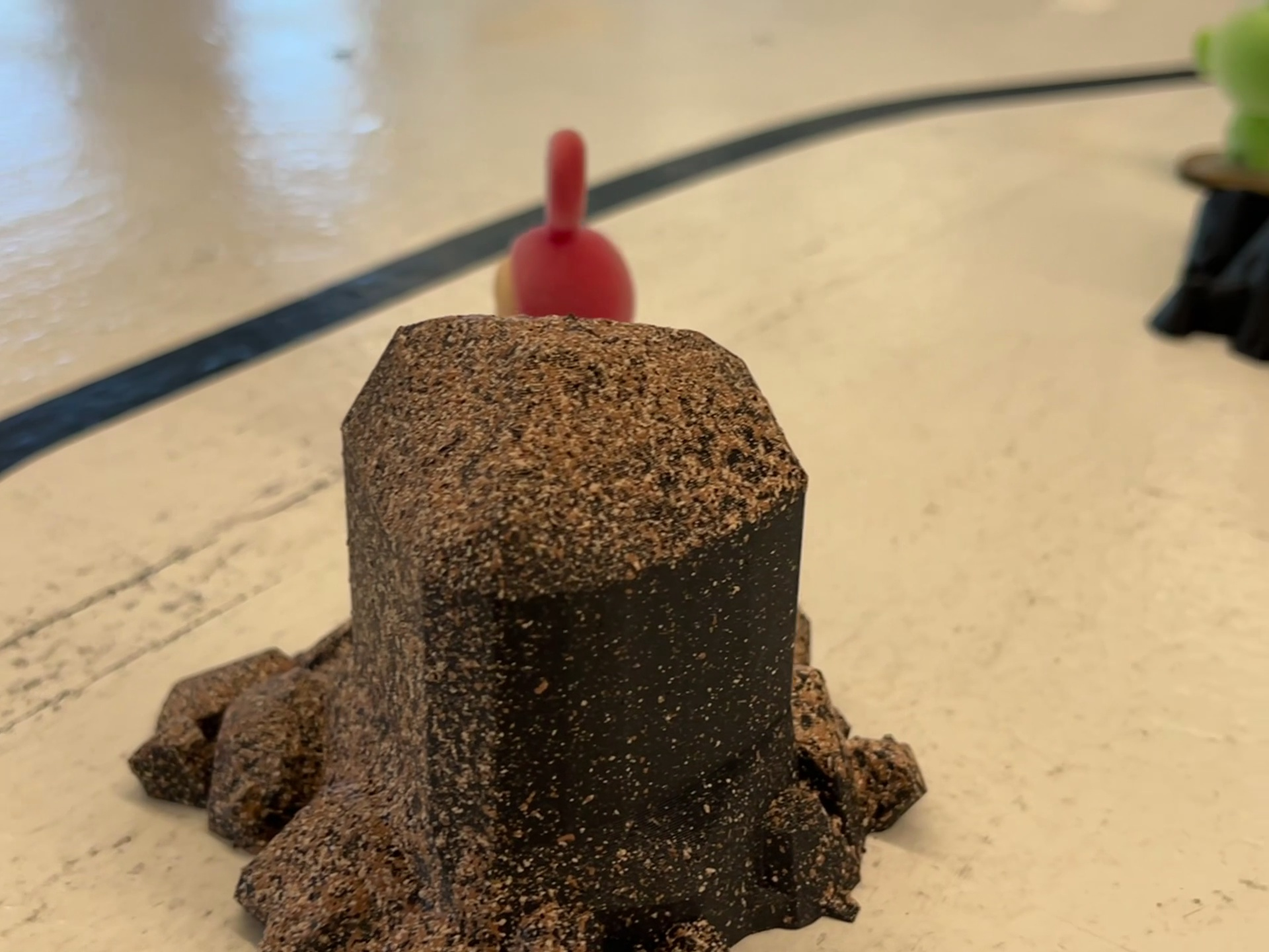teletubby: (495, 130, 633, 322), (1194, 0, 1268, 174)
